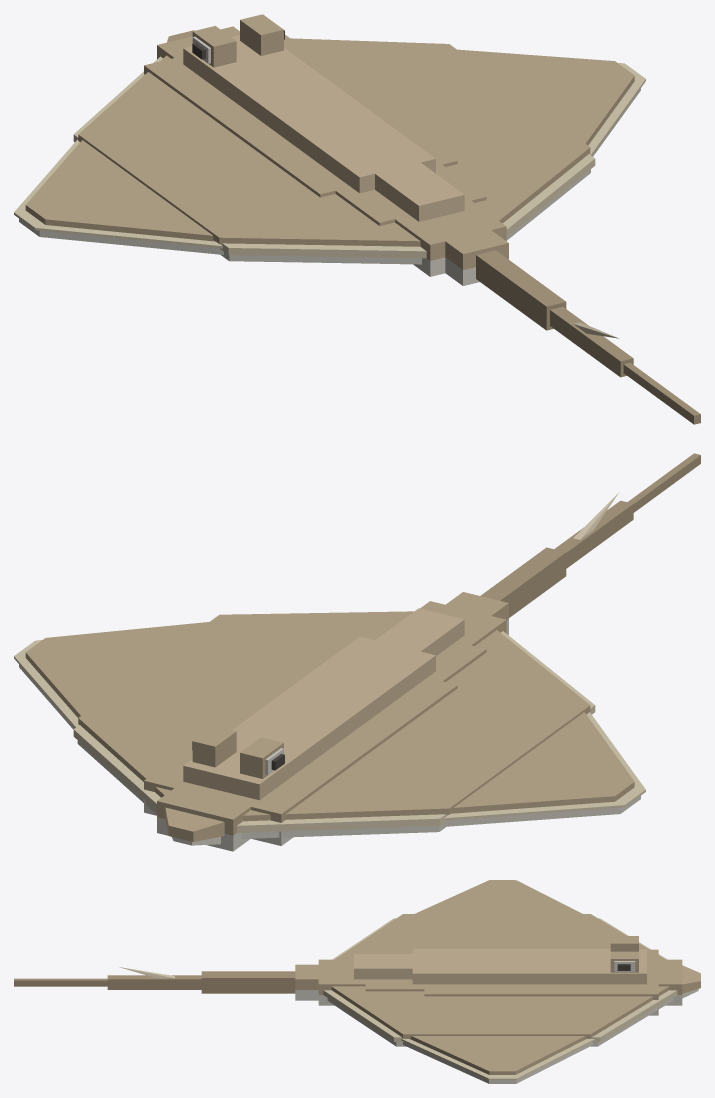
File: Stingray.glb
The picture shows the model from 3 angles, top to bottom: view 1: azimuth 30°, elevation 25°; view 2: azimuth 150°, elevation 25°; view 3: azimuth 270°, elevation 25°; orthographic projection. The views are drawn at different scales.
Parts seen in each view (by area): view 1: Body, WingL1, WingR1, WingL2, WingR2, Tail1, Tail2, Tail3; view 2: Body, WingL1, WingR1, WingL2, WingR2, Tail1, Tail2, Tail3; view 3: Body, WingR1, WingL1, WingR2, WingL2, Tail1, Tail2, Tail3.
Part boxes in pixels (<box>): Body: <box>144,14,508,285</box>; WingL1: <box>73,55,426,264</box>; WingR1: <box>291,38,595,240</box>; WingL2: <box>14,139,223,254</box>; WingR2: <box>457,49,645,156</box>; Tail1: <box>476,250,566,330</box>; Tail2: <box>550,306,633,377</box>; Tail3: <box>623,362,700,424</box>; Body: <box>144,592,508,851</box>; WingL1: <box>237,630,595,838</box>; WingR1: <box>73,611,413,814</box>; WingL2: <box>443,712,645,826</box>; WingR2: <box>14,622,208,729</box>; Tail1: <box>480,547,566,617</box>; Tail2: <box>554,493,633,568</box>; Tail3: <box>627,453,700,512</box>; Body: <box>295,936,700,1015</box>; WingR1: <box>323,986,677,1046</box>; WingL1: <box>332,914,667,959</box>; WingR2: <box>401,1036,594,1083</box>; WingL2: <box>415,880,582,913</box>; Tail1: <box>201,971,295,993</box>; Tail2: <box>107,967,201,989</box>; Tail3: <box>14,978,107,986</box>.
Bounding box in the file's own units: 16 × 2.12 × 23.44.
